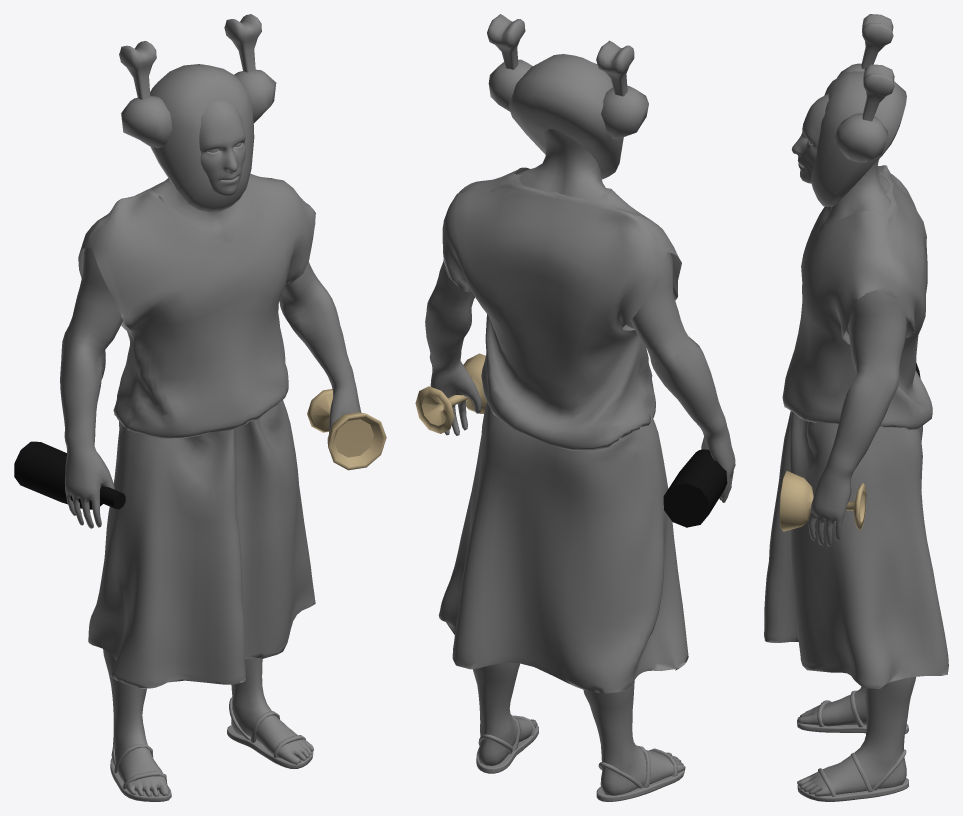
The model's file is character2_unwrapped_chickenhead.fbx.
The picture shows the model from 3 angles, left to right: view 1: azimuth 30°, elevation 25°; view 2: azimuth 150°, elevation 25°; view 3: azimuth 270°, elevation 25°; orthographic projection. The views are drawn at different scales.
Visible parts, largest first — view 1: Group16547645; view 2: Group16547645; view 3: Group16547645.
Part boxes in pixels (x1,y1,x2,y2): Group16547645: (14,14,386,801); Group16547645: (415,14,735,801); Group16547645: (764,14,948,801).
Size of the model in its own units: 120 by 267 by 62.59.
